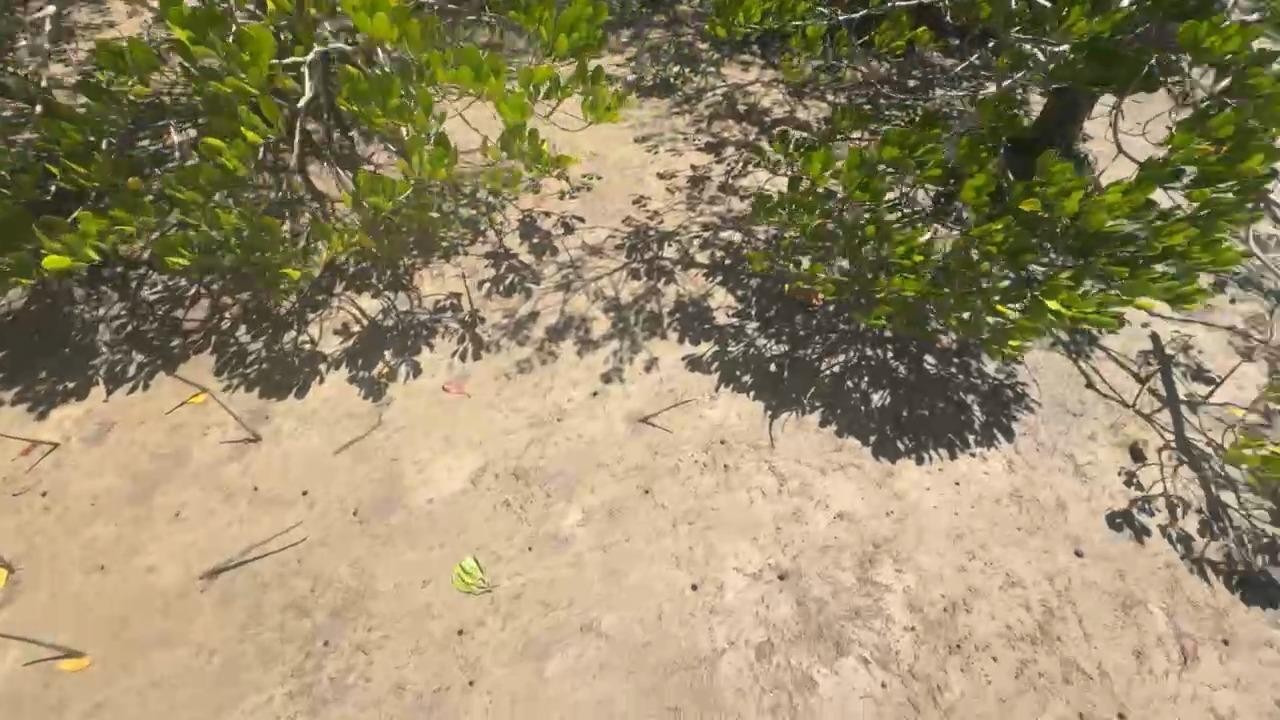Tree: (199, 521, 308, 579), (203, 392, 262, 442), (0, 632, 89, 656), (641, 400, 696, 422), (165, 366, 211, 389), (0, 432, 62, 447)
